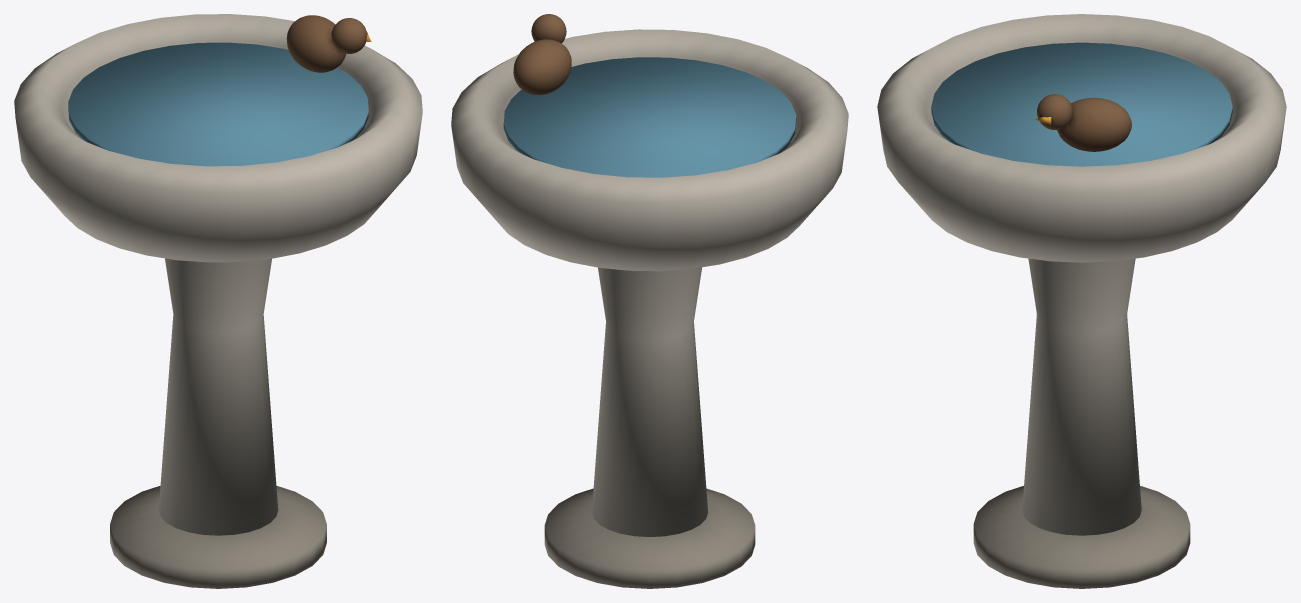
The model's file is birdbath.glb.
3 renders of one model, left to right at view 1: azimuth 30°, elevation 25°; view 2: azimuth 150°, elevation 25°; view 3: azimuth 270°, elevation 25°, orthographic. The views are drawn at different scales.
Visible parts, largest first — view 1: birdbath; view 2: birdbath; view 3: birdbath.
Boxes of the visible parts, x1,y1,x2,y2 form: birdbath: (14,14,422,588); birdbath: (451,14,848,588); birdbath: (877,14,1286,588).
Size of the model in its own units: 0.68 by 0.925 by 0.68.
